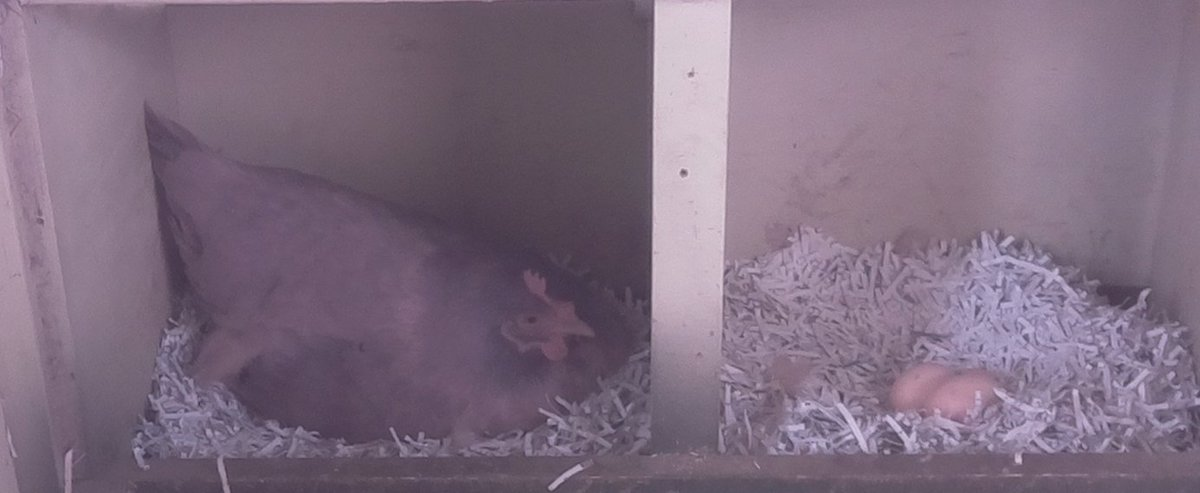egg: (926, 366, 1007, 427), (886, 360, 963, 417)
hen: (138, 112, 647, 451)
